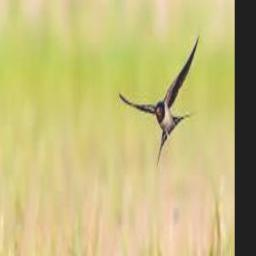Swallow: (118, 35, 198, 160)
